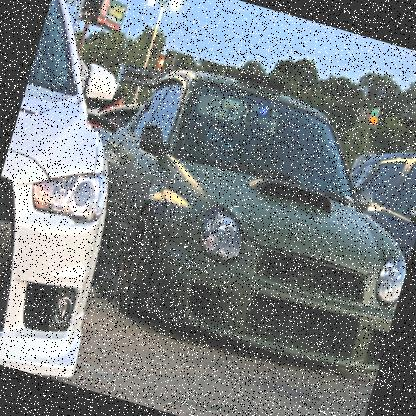Car: (65, 39, 415, 379), (0, 0, 178, 385), (298, 131, 415, 328), (83, 90, 145, 143)
